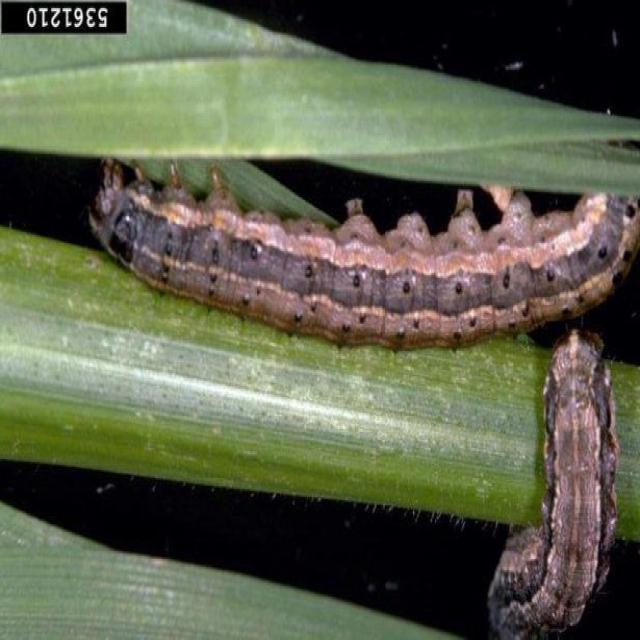army worm: (89, 168, 639, 349), (484, 326, 625, 632)
